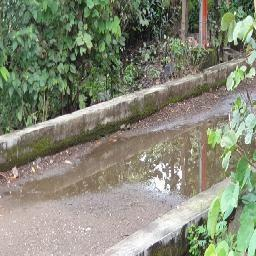water accumulation: (0, 115, 230, 202)
